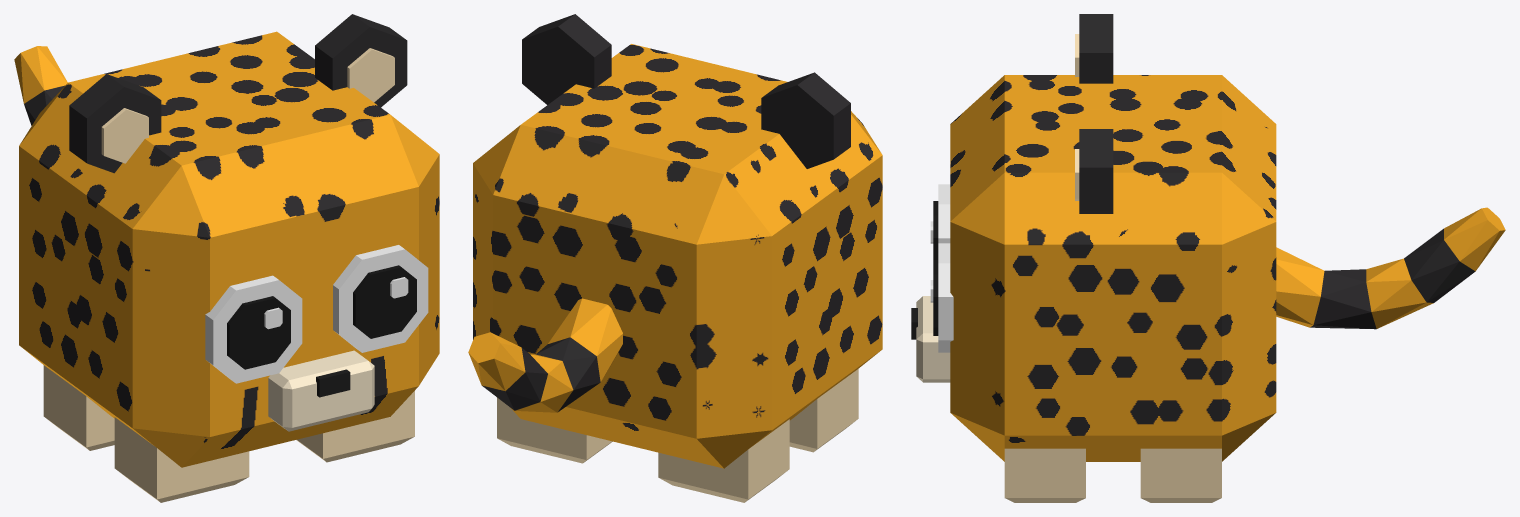
Rendered from Cheetah.fbx.
The picture shows the model from 3 angles, left to right: view 1: azimuth 30°, elevation 25°; view 2: azimuth 150°, elevation 25°; view 3: azimuth 270°, elevation 25°; orthographic projection. The views are drawn at different scales.
Visible parts, largest first — view 1: Cheetah, Cheetah_Feet, Cheetah_Eyes, Cheetah_Ears, Cheetah_Pupils, Cheetah_Snout, Cheetah_EarInner, Cheetah_Tail, Cheetah_Nose, Cheetah_TailBands; view 2: Cheetah, Cheetah_Ears, Cheetah_Feet, Cheetah_Tail, Cheetah_TailBands; view 3: Cheetah, Cheetah_Feet, Cheetah_Tail, Cheetah_TailBands, Cheetah_Ears, Cheetah_Eyes, Cheetah_Snout, Cheetah_Pupils.
Boxes of the visible parts, bbox=[...] form: Cheetah: bbox=[19, 31, 439, 467]; Cheetah_Feet: bbox=[43, 365, 414, 502]; Cheetah_Eyes: bbox=[205, 245, 428, 383]; Cheetah_Ears: bbox=[69, 14, 407, 173]; Cheetah_Pupils: bbox=[227, 265, 416, 369]; Cheetah_Snout: bbox=[268, 350, 374, 431]; Cheetah_EarInner: bbox=[101, 48, 394, 163]; Cheetah_Tail: bbox=[14, 46, 67, 103]; Cheetah_Nose: bbox=[316, 369, 350, 397]; Cheetah_TailBands: bbox=[24, 85, 64, 125]; Cheetah: bbox=[473, 44, 882, 468]; Cheetah_Ears: bbox=[522, 14, 850, 168]; Cheetah_Feet: bbox=[497, 369, 858, 502]; Cheetah_Tail: bbox=[468, 298, 622, 412]; Cheetah_TailBands: bbox=[482, 337, 600, 411]; Cheetah: bbox=[950, 75, 1276, 461]; Cheetah_Feet: bbox=[1004, 448, 1221, 502]; Cheetah_Tail: bbox=[1276, 207, 1505, 328]; Cheetah_TailBands: bbox=[1310, 228, 1475, 329]; Cheetah_Ears: bbox=[1079, 14, 1113, 213]; Cheetah_Eyes: bbox=[930, 184, 953, 352]; Cheetah_Snout: bbox=[916, 296, 950, 382]; Cheetah_Pupils: bbox=[933, 201, 938, 335].
Size of the model in its own units: 2.08 by 2.44 by 3.5.
Materials: 10 (1 with a texture image).
